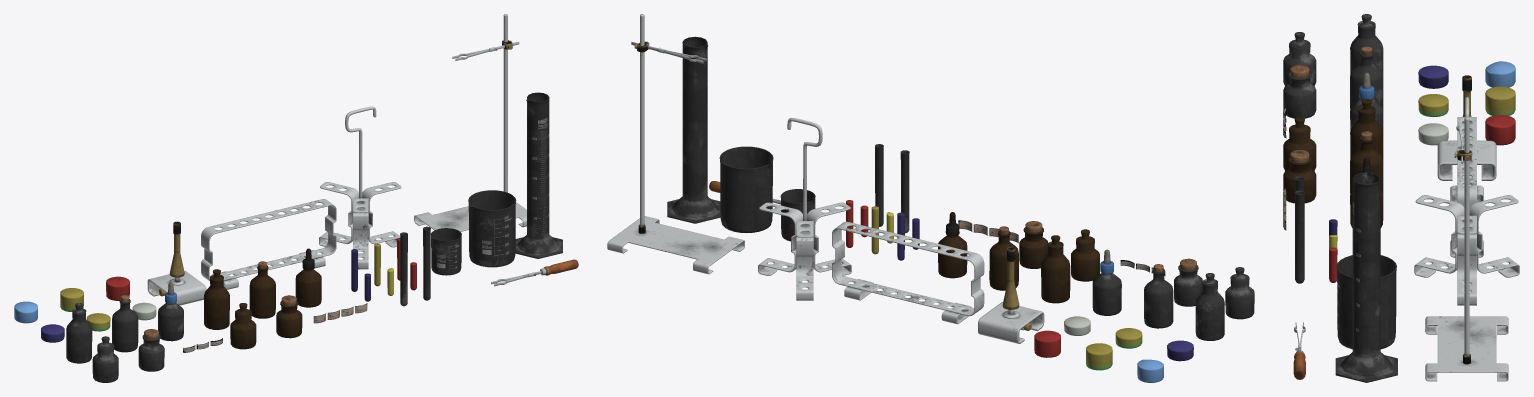
The picture shows the model from 3 angles, left to right: view 1: azimuth 30°, elevation 25°; view 2: azimuth 150°, elevation 25°; view 3: azimuth 270°, elevation 25°; orthographic projection. The views are drawn at different scales.
Parts seen in each view (by area): view 1: chemistry_set_beaker_large, chemistry_set_beaker_med, chemistry_set_test_tube_stand_a, chemistry_set_test_tube_stand_b, chemistry_set_clamp_stand, chemistry_set_bunsen_burner, chemistry_set_beaker_small, chemistry_set_bottle_clear_c, chemistry_set_bottle_dark_c, chemistry_set_bottle_dark_d, chemistry_set_bottle_clear_d, chemistry_set_bottle_dark_e (+11 smaller); view 2: chemistry_set_beaker_large, chemistry_set_clamp_stand, chemistry_set_beaker_med, chemistry_set_test_tube_stand_a, chemistry_set_test_tube_stand_b, chemistry_set_bunsen_burner, chemistry_set_bottle_clear_c, chemistry_set_bottle_dark_c, chemistry_set_bottle_clear_d, chemistry_set_bottle_clear_e, chemistry_set_bottle_dark_d, chemistry_set_bottle_clear_a (+10 smaller); view 3: chemistry_set_beaker_large, chemistry_set_clamp_stand, chemistry_set_test_tube_stand_b, chemistry_set_beaker_med, chemistry_set_bunsen_burner, chemistry_set_test_tube_stand_a, chemistry_set_bottle_clear_b, chemistry_set_bottle_clear_d, chemistry_set_bottle_dark_b, chemistry_set_bottle_dark_c, chemistry_set_bottle_clear_c, chemistry_set_bottle_dark_d (+16 smaller).
Boxes of the visible parts, x1,y1,x2,y2 form: chemistry_set_beaker_large: (515,92,562,258); chemistry_set_beaker_med: (468,190,516,267); chemistry_set_test_tube_stand_a: (201,199,336,289); chemistry_set_test_tube_stand_b: (319,106,401,269); chemistry_set_clamp_stand: (414,14,526,231); chemistry_set_bunsen_burner: (147,221,206,305); chemistry_set_beaker_small: (430,228,461,275); chemistry_set_bottle_clear_c: (66,308,92,363); chemistry_set_bottle_dark_c: (204,275,229,329); chemistry_set_bottle_dark_d: (249,265,275,318); chemistry_set_bottle_clear_d: (112,299,138,352); chemistry_set_bottle_dark_e: (295,269,321,307); chemistry_set_beaker_large: (667,36,720,223); chemistry_set_clamp_stand: (607,14,744,274); chemistry_set_beaker_med: (719,146,773,232); chemistry_set_test_tube_stand_a: (832,221,984,324); chemistry_set_test_tube_stand_b: (758,118,851,300); chemistry_set_bunsen_burner: (978,247,1044,343); chemistry_set_bottle_clear_c: (1195,279,1224,340); chemistry_set_bottle_dark_c: (1041,241,1070,303); chemistry_set_bottle_clear_d: (1144,268,1173,328); chemistry_set_bottle_clear_e: (1092,273,1121,315); chemistry_set_bottle_dark_d: (989,231,1018,290); chemistry_set_bottle_clear_a: (1225,274,1254,319); chemistry_set_beaker_large: (1335,172,1397,382); chemistry_set_clamp_stand: (1425,117,1508,381); chemistry_set_test_tube_stand_b: (1414,97,1519,305); chemistry_set_beaker_med: (1336,255,1396,349); chemistry_set_bunsen_burner: (1437,75,1496,180); chemistry_set_test_tube_stand_a: (1450,117,1483,257); chemistry_set_bottle_clear_b: (1283,72,1316,118); chemistry_set_bottle_clear_d: (1350,52,1383,109); chemistry_set_bottle_dark_b: (1283,157,1316,203); chemistry_set_bottle_dark_c: (1350,106,1383,159); chemistry_set_bottle_clear_c: (1350,21,1383,74); chemistry_set_bottle_dark_d: (1350,136,1383,193).
Size of the model in its own units: 1.08 by 0.429 by 0.3539.
2 materials, 2 textured.
